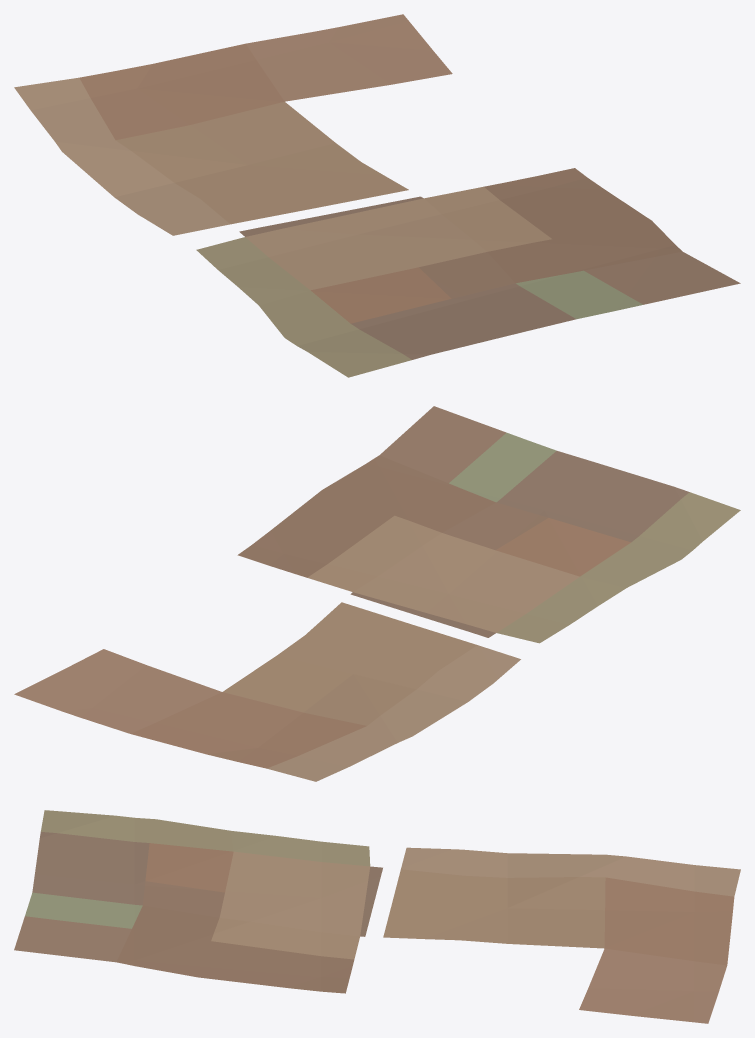
File: farm_9_-2_soil.glb
The picture shows the model from 3 angles, top to bottom: view 1: azimuth 30°, elevation 25°; view 2: azimuth 150°, elevation 25°; view 3: azimuth 270°, elevation 25°; orthographic projection. The views are drawn at different scales.
Visible parts, largest first — view 1: geometry_0; view 2: geometry_0; view 3: geometry_0.
Part boxes in pixels (box(x1,y1,x2,y2)): geometry_0: box(14, 14, 740, 377); geometry_0: box(14, 406, 740, 781); geometry_0: box(14, 810, 740, 1023).
Bounding box in the file's own units: 187 × 21.07 × 312.
